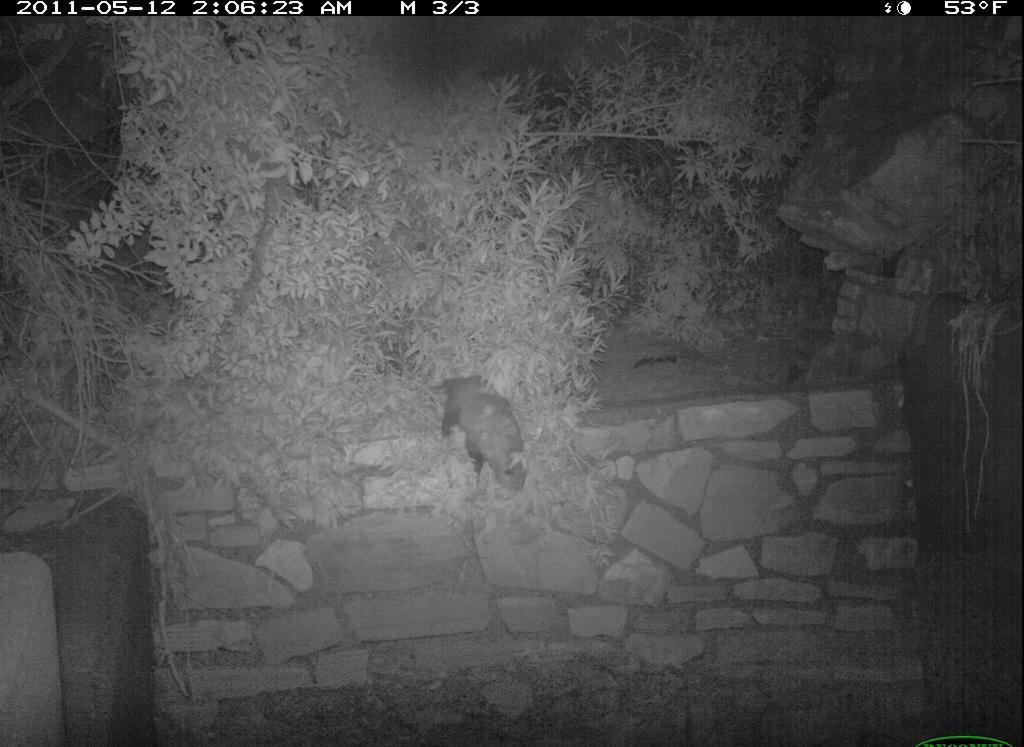opossum: (437, 370, 545, 506)
